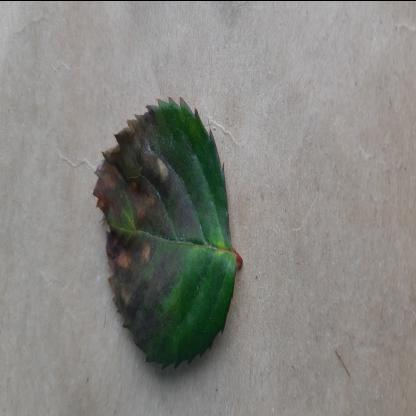powdery-mildew: (93, 89, 237, 385)
